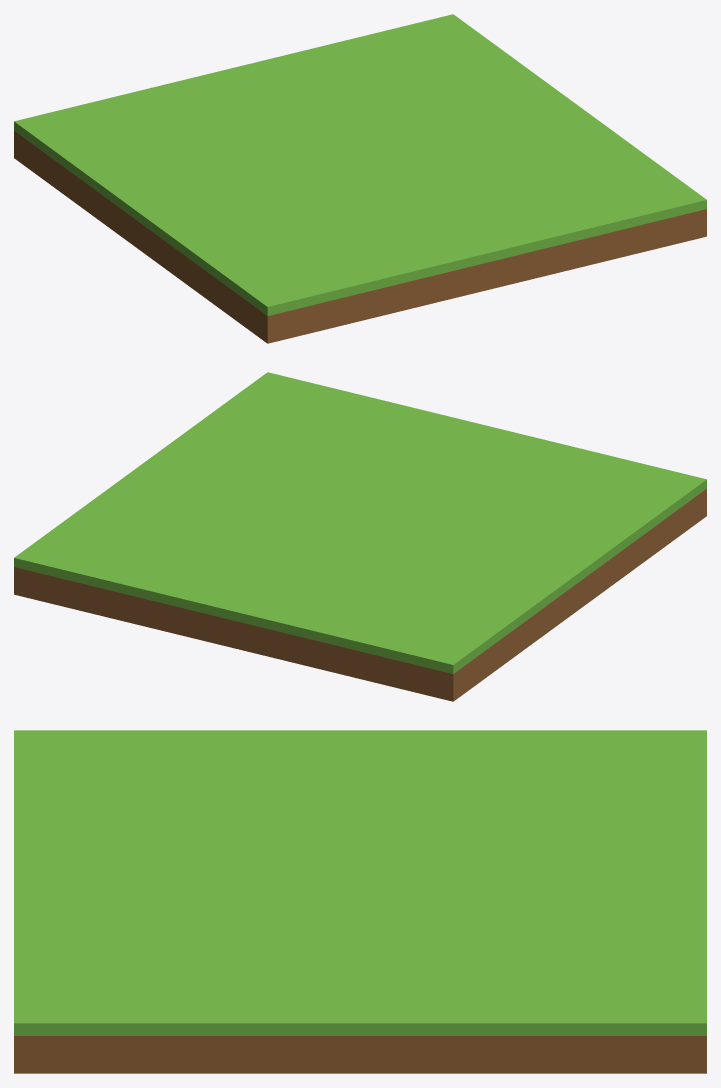
File: grass.glb
3 renders of one model, top to bottom at view 1: azimuth 30°, elevation 25°; view 2: azimuth 150°, elevation 25°; view 3: azimuth 270°, elevation 25°, orthographic. The views are drawn at different scales.
Parts seen in each view (by area): view 1: model_0; view 2: model_0; view 3: model_0.
Part boxes in pixels (box(x1,y1,x2,y2)): model_0: box(14, 14, 706, 343); model_0: box(14, 372, 706, 701); model_0: box(14, 730, 706, 1073).
Size of the model in its own units: 2 by 0.16 by 2.
